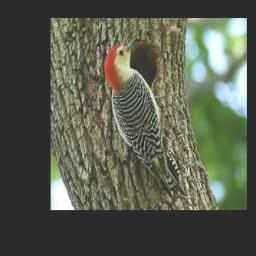Woodpecker: (104, 37, 188, 205)
